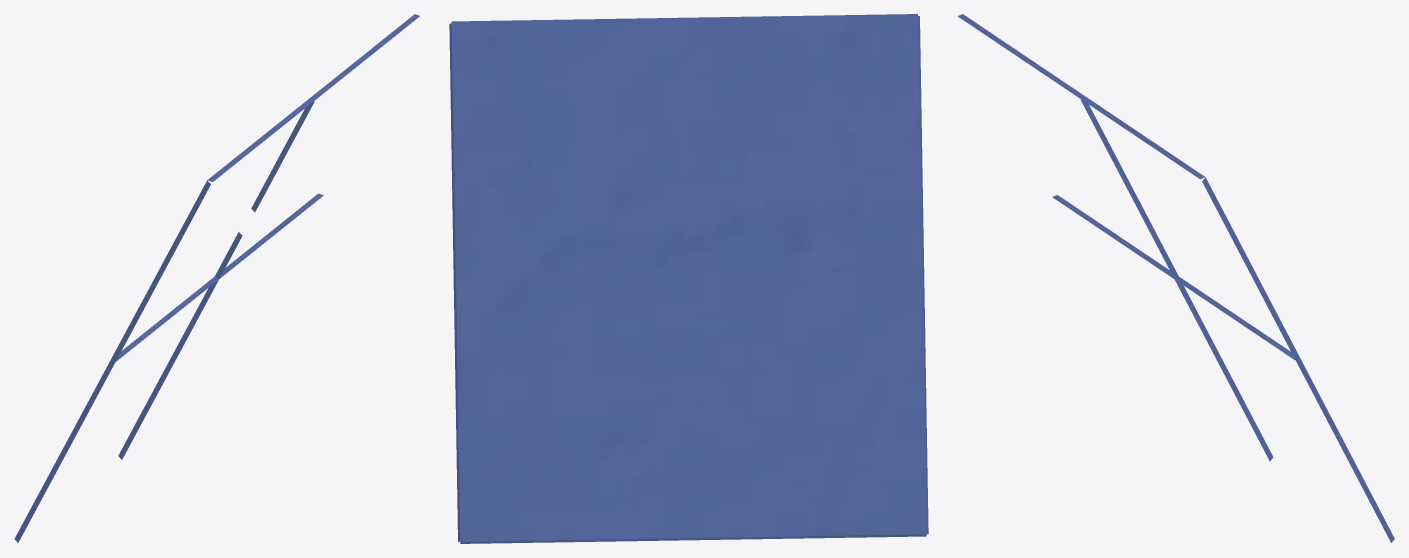
3 renders of one model, left to right at view 1: azimuth 30°, elevation 25°; view 2: azimuth 150°, elevation 25°; view 3: azimuth 270°, elevation 25°, orthographic. The views are drawn at different scales.
Bounding box in the file's own units: 39434 × 35523 × 33871.
1 material, 1 textured.
